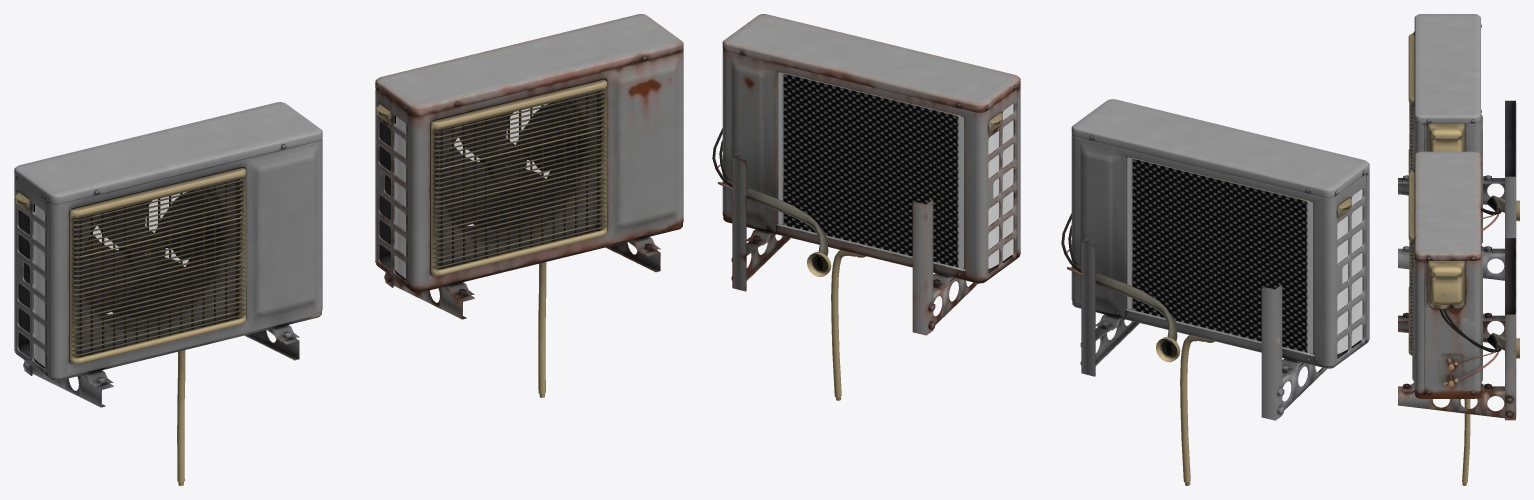
Rendered from exterior_aircon_unit.gltf.
The picture shows the model from 3 angles, left to right: view 1: azimuth 30°, elevation 25°; view 2: azimuth 150°, elevation 25°; view 3: azimuth 270°, elevation 25°; orthographic projection. The views are drawn at different scales.
Visible parts, largest first — view 1: exterior_aircon_unit_rusted, exterior_aircon_unit; view 2: exterior_aircon_unit, exterior_aircon_unit_rusted; view 3: exterior_aircon_unit_rusted, exterior_aircon_unit.
Boxes of the visible parts, x1,y1,x2,y2 form: exterior_aircon_unit_rusted: [375, 14, 683, 397]; exterior_aircon_unit: [14, 102, 322, 485]; exterior_aircon_unit: [1061, 99, 1369, 485]; exterior_aircon_unit_rusted: [712, 14, 1020, 400]; exterior_aircon_unit_rusted: [1398, 151, 1519, 485]; exterior_aircon_unit: [1398, 14, 1519, 280].
Size of the model in its own units: 1.8 by 0.9279 by 0.3742.
4 materials, 4 textured.
